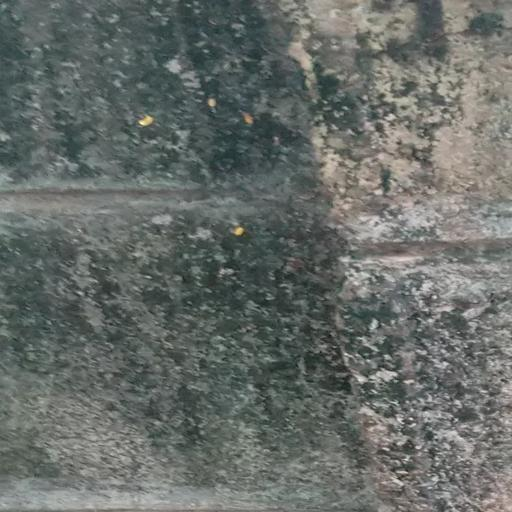algae: (0, 0, 484, 512)
